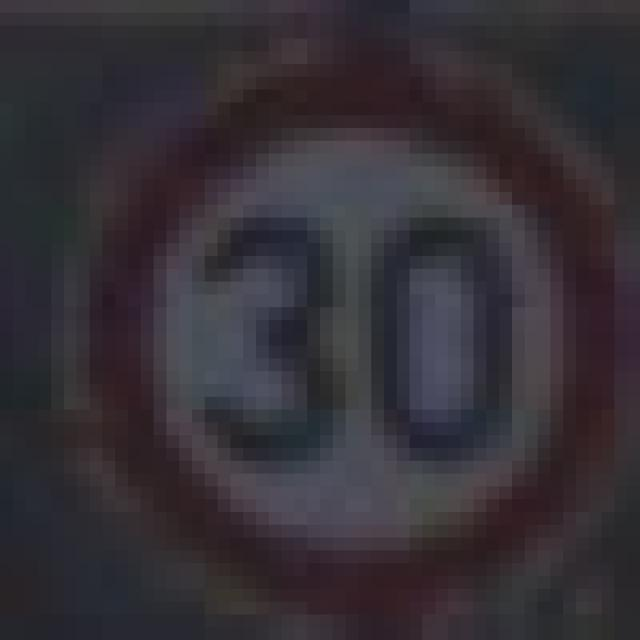SPEED_LIMIT_30: (51, 51, 589, 614)
